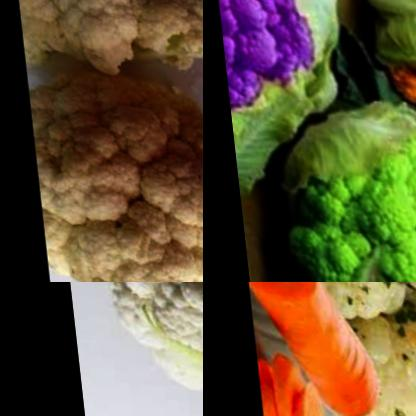carrot: (238, 282, 373, 416), (250, 348, 331, 416)
cayliflower: (22, 70, 203, 282), (238, 90, 416, 282), (205, 0, 350, 160), (10, 0, 203, 83), (77, 282, 203, 404), (321, 282, 416, 416), (338, 0, 416, 159)
